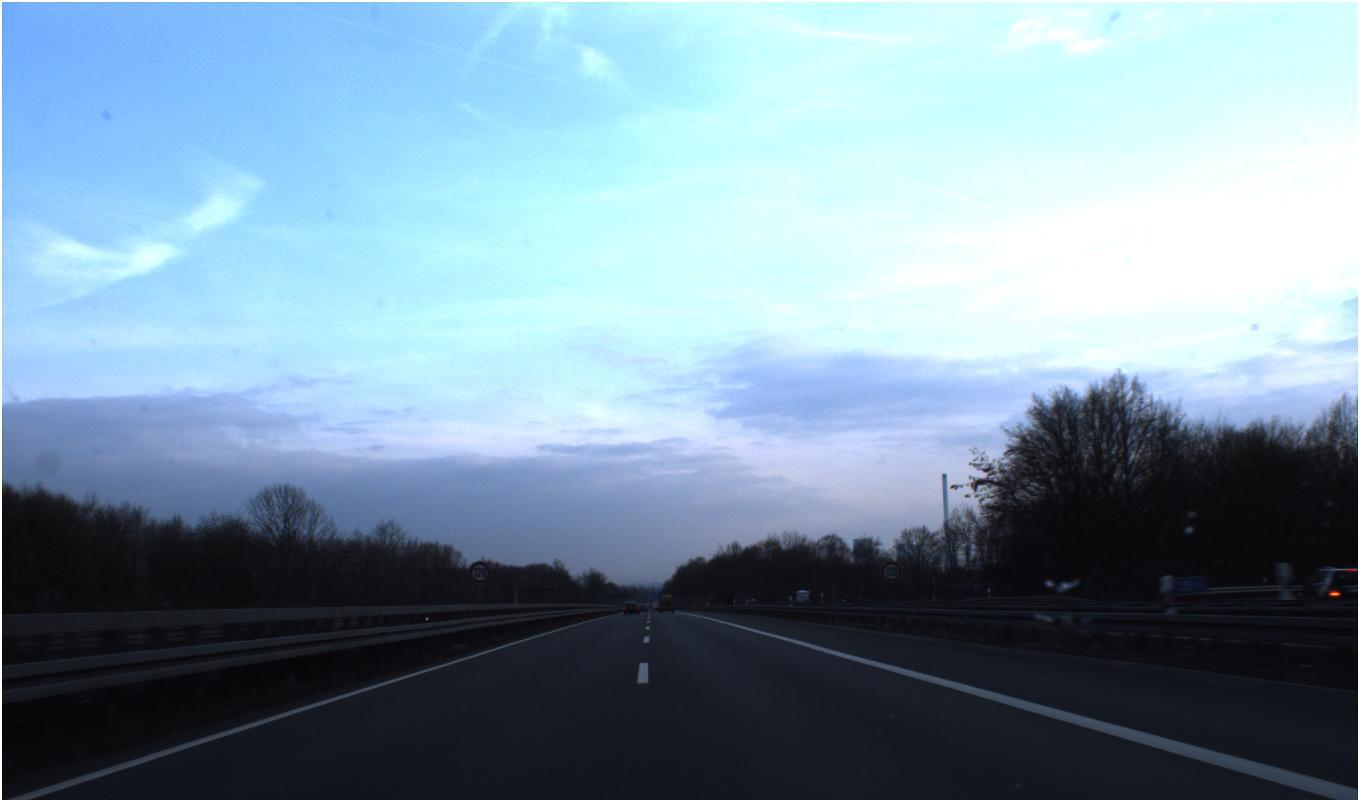speed limit 120 prohibitory: (467, 560, 492, 585), (879, 559, 903, 583)
